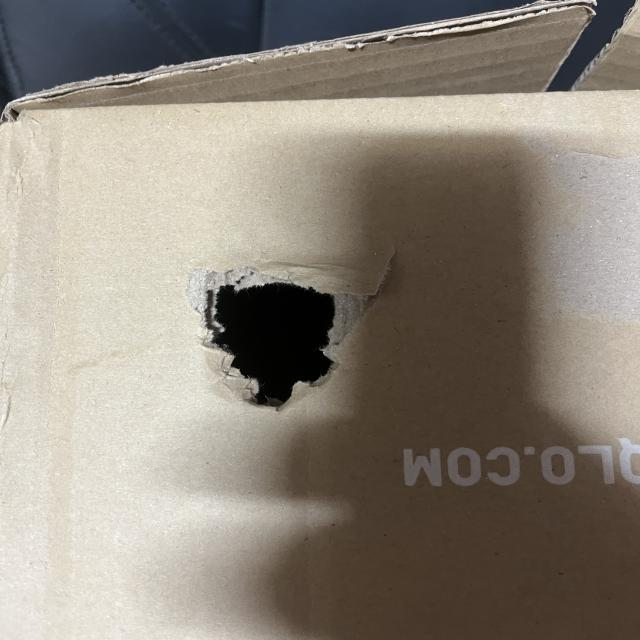hole: (185, 267, 358, 422)
